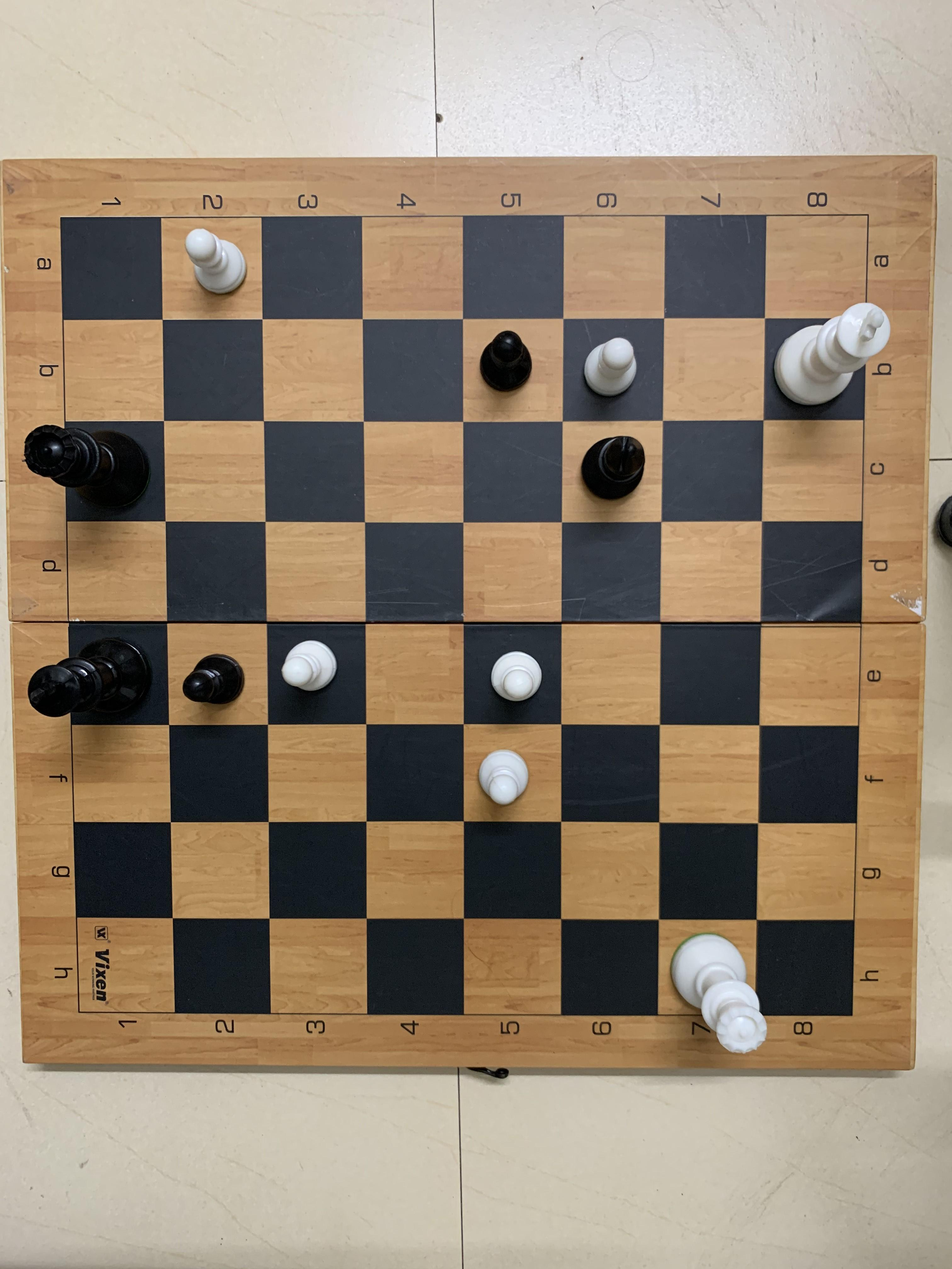black_bishop: (578, 427, 654, 508)
black_king: (22, 616, 161, 723)
black_pawn: (471, 315, 556, 407), (168, 631, 260, 711)
black_queen: (17, 413, 159, 522)
white_king: (770, 295, 893, 419)
white_pawn: (168, 214, 251, 322), (463, 734, 564, 813), (261, 633, 344, 708), (469, 638, 550, 712), (575, 329, 657, 401)
white_queen: (661, 927, 789, 1060)
